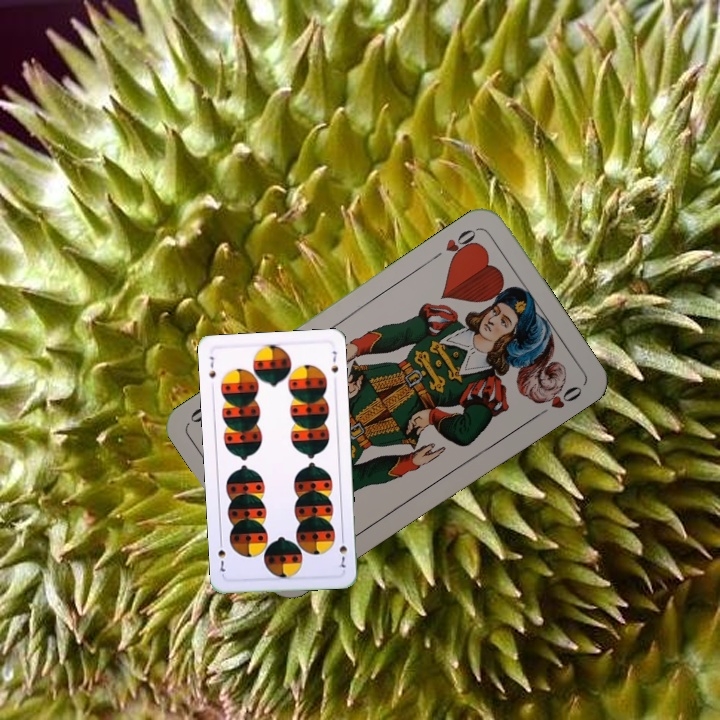HO: (428, 224, 481, 264)
S7: (335, 532, 350, 570), (204, 352, 218, 381)
